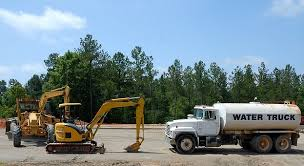excavator: (44, 97, 150, 155), (5, 84, 72, 144)
truck: (166, 102, 300, 158)
